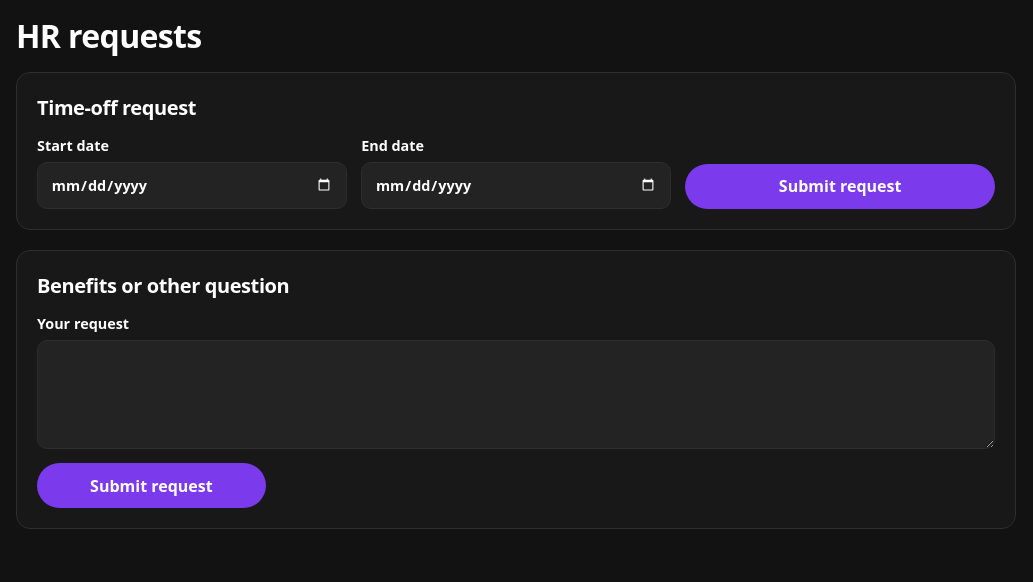
it: HrRequestsPage › confirms a time-off request as submitted, never as approved
The image size is (1033, 582).
In the date field with test id "timeoff-start": (192, 185) [37,162,347,209], type "2025-05-05"
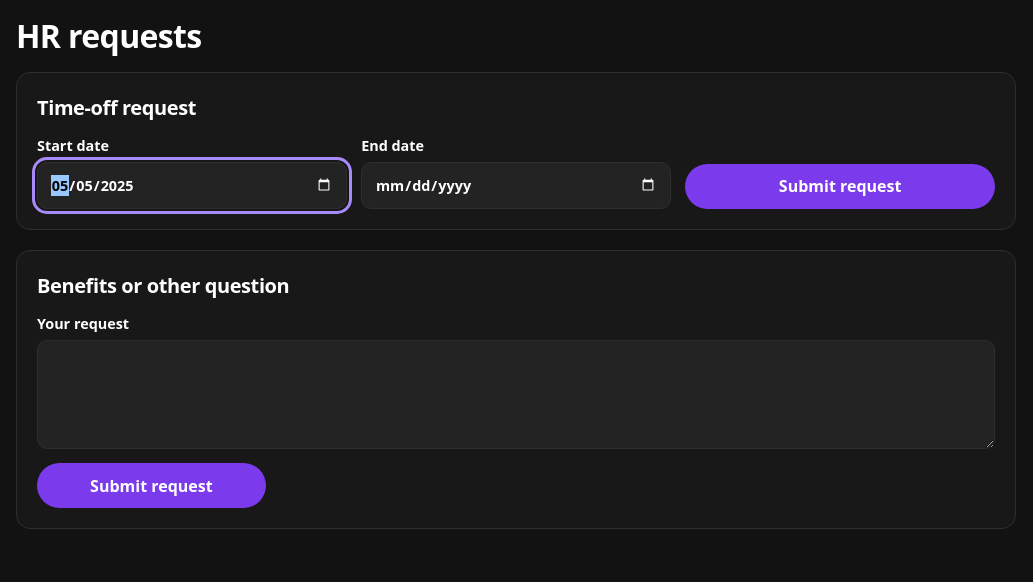
In the date field with test id "timeoff-end": (516, 185) [361,162,671,209], type "2025-05-07"
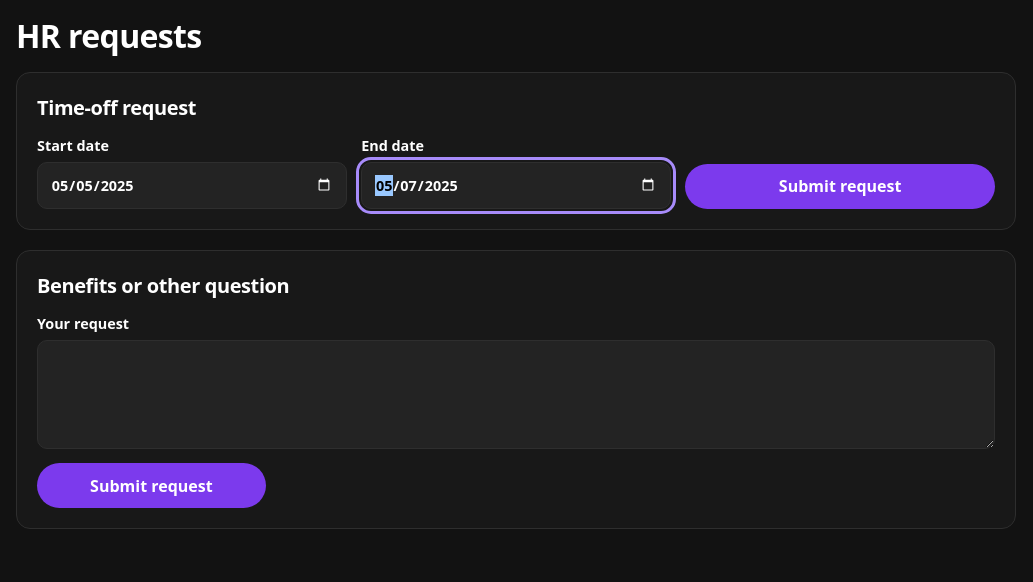
Click the button with test id "timeoff-submit": (840, 186) [685,164,995,209]
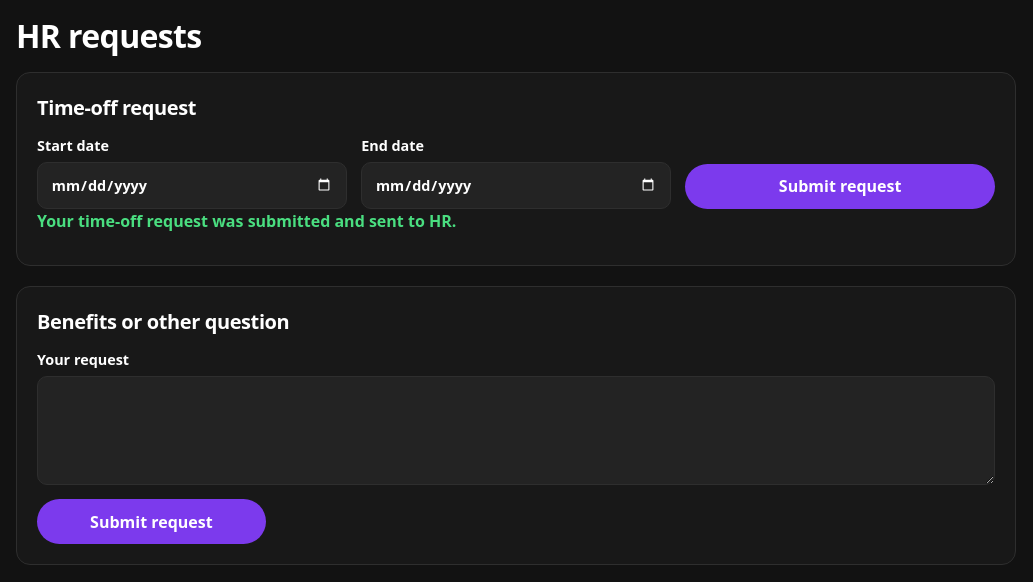
Expected: the text with test id "timeoff-success" shows "submitted", [37,210,456,232]
Expected: the text with test id "timeoff-success" shows "sent to HR", [37,210,456,232]
